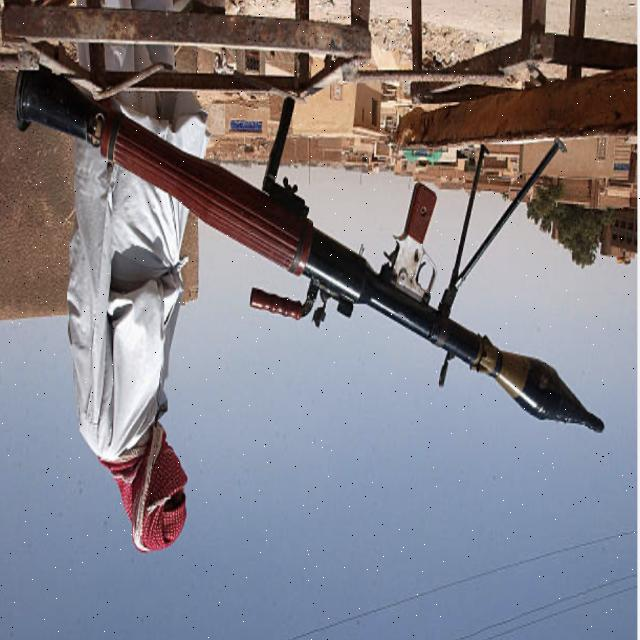bazooka: (8, 52, 616, 441)
